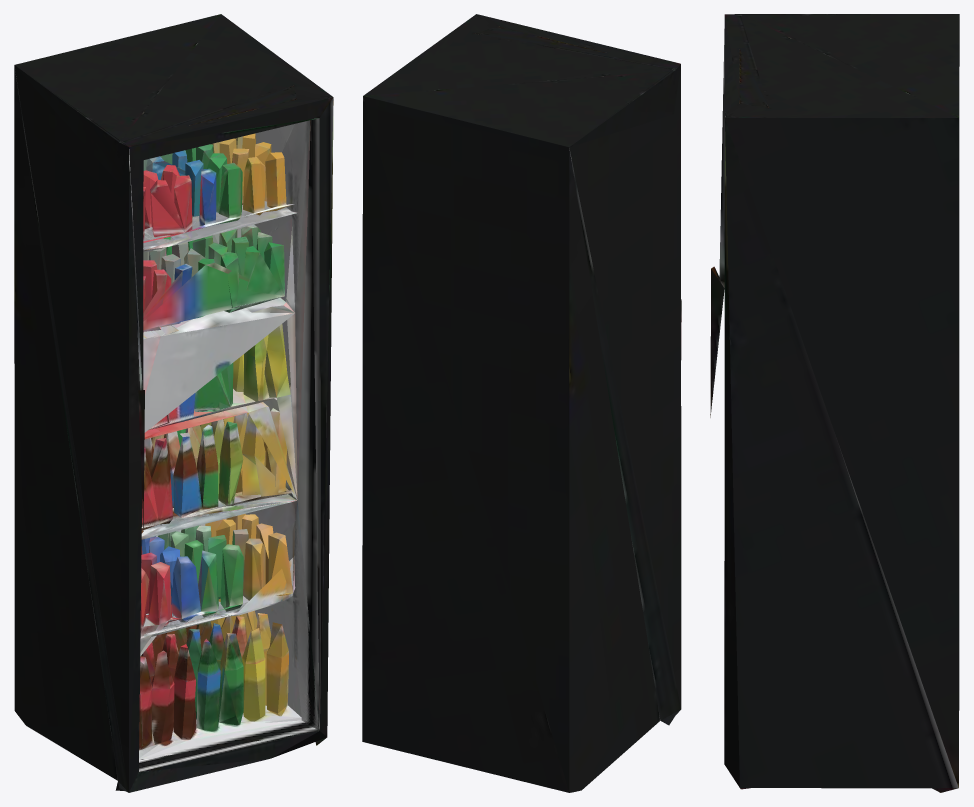
File: drinks_fridge.glb
3 renders of one model, left to right at view 1: azimuth 30°, elevation 25°; view 2: azimuth 150°, elevation 25°; view 3: azimuth 270°, elevation 25°, orthographic. The views are drawn at different scales.
Parts seen in each view (by area): view 1: 0; view 2: 0; view 3: 0.
Part boxes in pixels (<box>): 0: <box>14,14,333,792</box>; 0: <box>362,14,681,792</box>; 0: <box>710,14,959,792</box>.
Size of the model in its own units: 0.6 by 1.8 by 0.6.
1 material, 1 textured.
